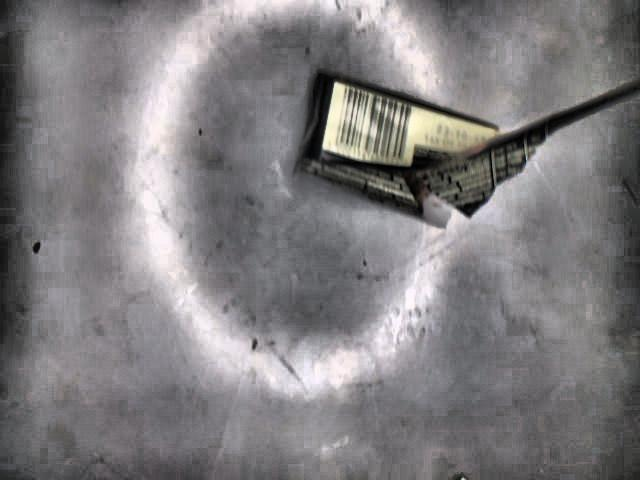Plastic: (292, 71, 640, 229)
